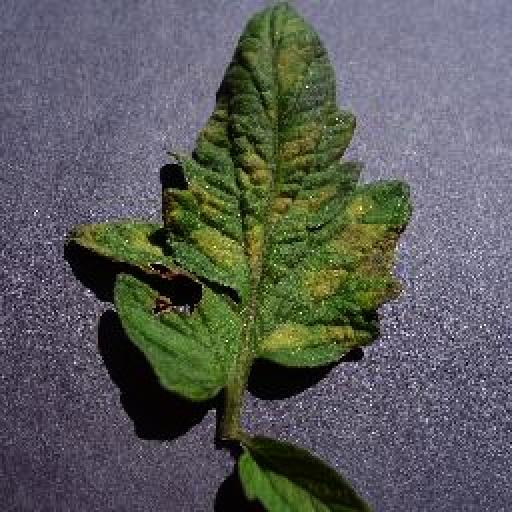disease_tomato: (67, 0, 412, 406)
